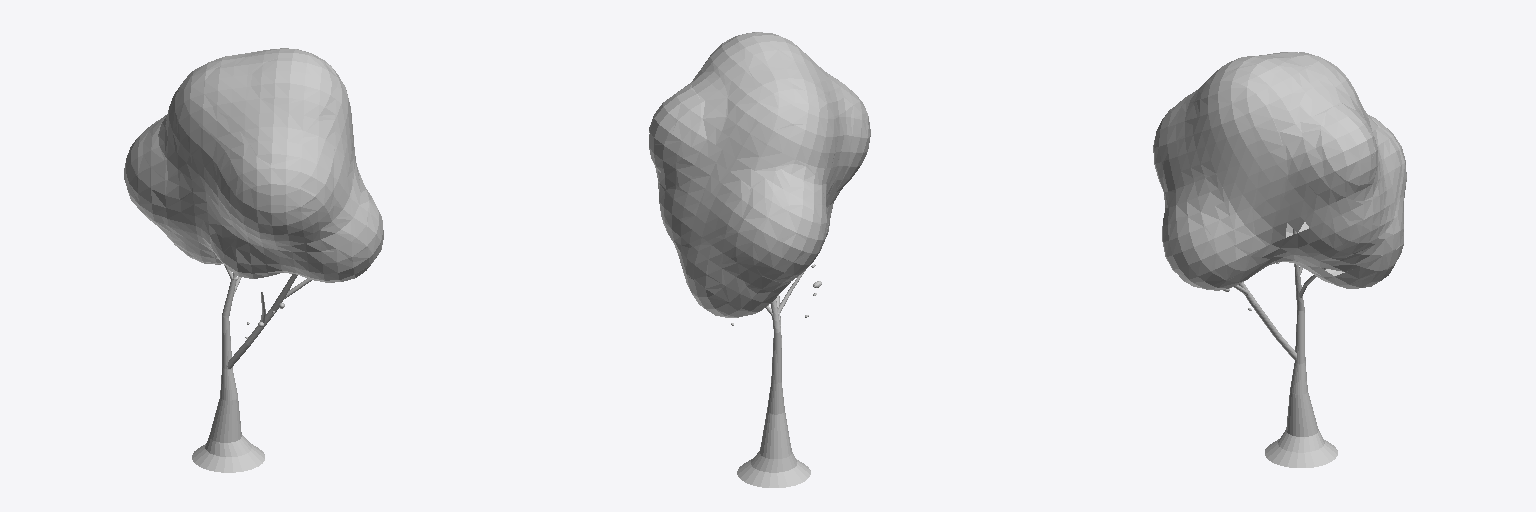
The model's file is tree_1.obj.
3 renders of one model, left to right at view 1: azimuth 30°, elevation 25°; view 2: azimuth 150°, elevation 25°; view 3: azimuth 270°, elevation 25°, orthographic.
Visible parts, largest first — view 1: Crone, Wood_2, Stick_12; view 2: Crone, Wood_2; view 3: Crone, Wood_2, Stick_12.
Boxes of the visible parts, box(x1,y1,x2,y2) form: Crone: box(124, 48, 383, 282); Wood_2: box(192, 273, 264, 472); Stick_12: box(227, 274, 297, 368); Crone: box(649, 32, 870, 317); Wood_2: box(737, 299, 810, 487); Crone: box(1153, 52, 1406, 290); Wood_2: box(1265, 229, 1337, 467); Stick_12: box(1239, 282, 1296, 360).
Size of the model in its own units: 5.29 by 11.76 by 6.6.